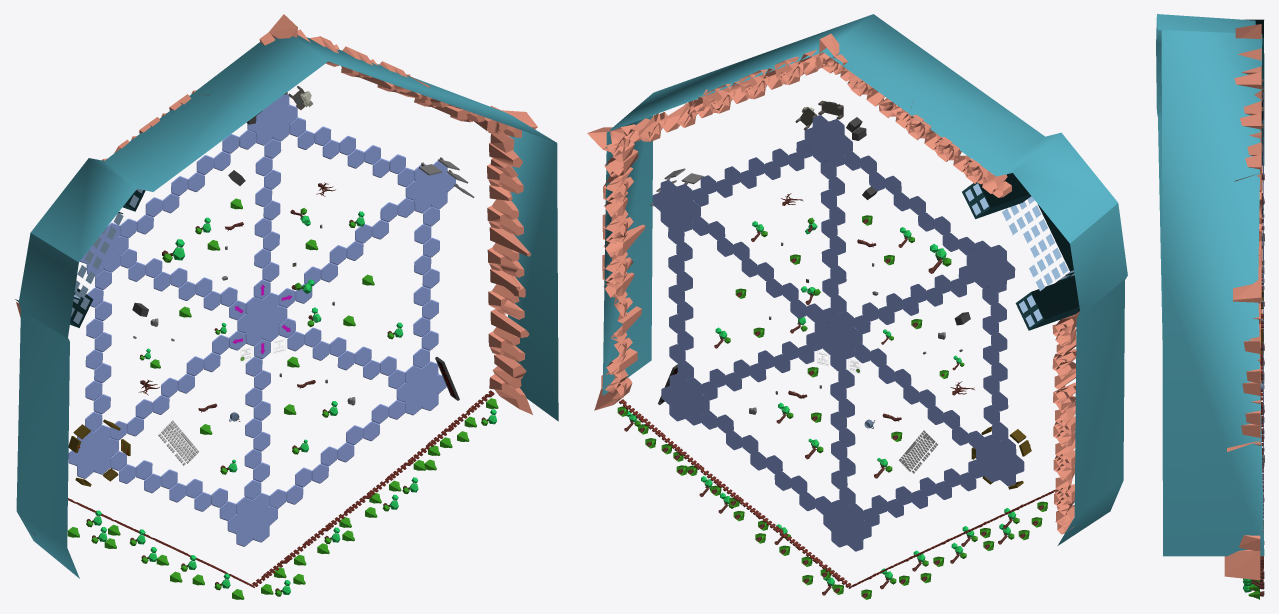
The picture shows the model from 3 angles, left to right: view 1: azimuth 30°, elevation 25°; view 2: azimuth 150°, elevation 25°; view 3: azimuth 270°, elevation 25°; orthographic projection. The views are drawn at different scales.
Parts seen in each view (by area): view 1: Plane.001, Circle.015, Circle.014, пол.010, пол.008, пол.011, пол.002, пол.003, пол.005, пол.006, пол.001, пол.012 (+13 smaller); view 2: Plane.001, Circle.015, Circle.014, Circle.032, Circle.001, stone2.001, пол.008, пол.010, пол.002, пол.004, пол.005, пол.001 (+15 smaller); view 3: Plane.001, Circle.015, Circle.014, stone2.001, Circle.001.
Part boxes in pixels (x1,y1,x2,y2): Plane.001: (16, 35, 558, 578); Circle.015: (487, 132, 532, 414); Circle.014: (297, 29, 537, 137); пол.010: (413, 206, 439, 367); пол.008: (85, 270, 111, 431); пол.011: (269, 400, 405, 508); пол.002: (244, 339, 270, 499); пол.003: (120, 130, 255, 238); пол.005: (253, 139, 281, 299); пол.006: (120, 248, 245, 320); пол.001: (279, 318, 404, 389); пол.012: (110, 451, 236, 520); Plane.001: (602, 14, 1127, 545); Circle.015: (594, 141, 645, 410); Circle.014: (587, 49, 831, 156); Circle.032: (1052, 311, 1079, 534); Circle.001: (819, 34, 1011, 197); stone2.001: (962, 173, 1079, 330); пол.008: (982, 286, 1008, 441); пол.010: (668, 225, 693, 380); пол.002: (830, 353, 855, 505); пол.004: (692, 217, 822, 322); пол.005: (820, 160, 846, 313); пол.001: (701, 332, 822, 400); Plane.001: (1156, 14, 1264, 556); Circle.015: (1224, 302, 1260, 580); Circle.014: (1233, 48, 1261, 302); stone2.001: (1245, 19, 1264, 165); Circle.001: (1235, 24, 1261, 38).
Size of what is drawn, in the model's own units: 138 by 149 by 25.57.
49 materials, 10 textured.
